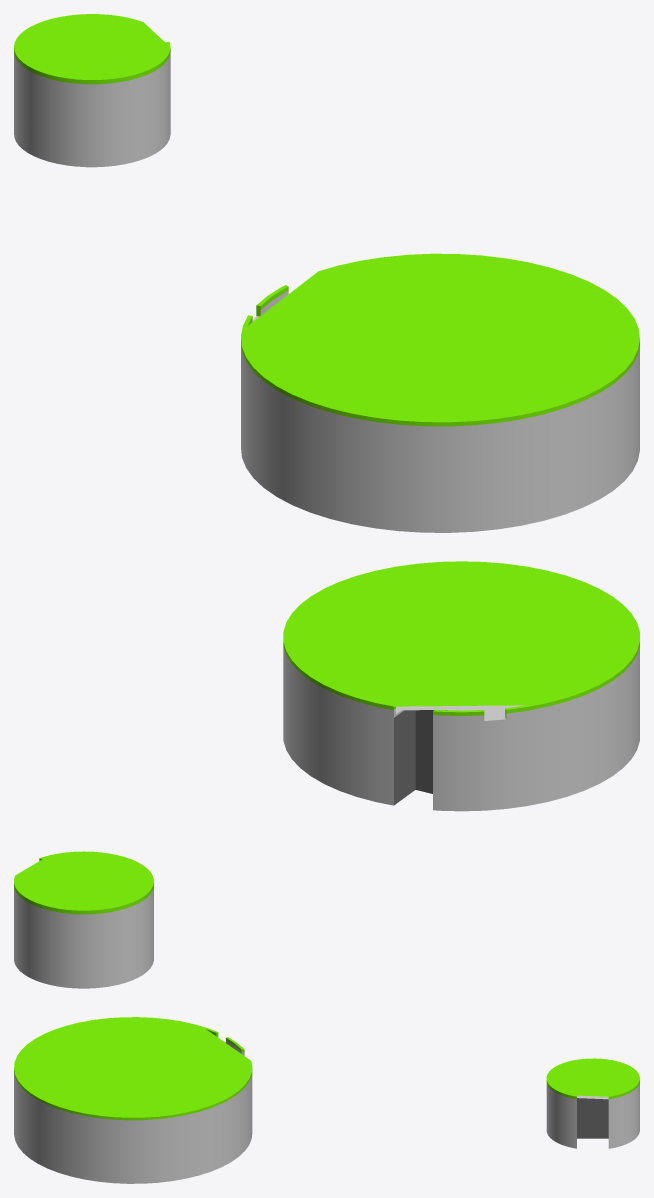
File: Buildings in Level 5.fbx
The picture shows the model from 3 angles, top to bottom: view 1: azimuth 30°, elevation 25°; view 2: azimuth 150°, elevation 25°; view 3: azimuth 270°, elevation 25°; orthographic projection. The views are drawn at different scales.
Visible parts, largest first — view 1: Group4, Group2, Group1, Group3; view 2: Group4, Group2, Group1, Group3; view 3: Group4, Group2, Group1, Group3.
Boxes of the visible parts, x1,y1,x2,y2 form: Group4: (241, 253, 639, 434); Group2: (241, 352, 639, 532); Group1: (14, 61, 170, 167); Group3: (14, 14, 170, 92); Group4: (283, 561, 639, 723); Group2: (283, 653, 639, 811); Group1: (14, 894, 153, 988); Group3: (14, 851, 153, 921); Group4: (14, 1017, 252, 1125); Group2: (14, 1076, 252, 1183); Group1: (546, 1087, 639, 1148); Group3: (546, 1058, 639, 1104).
Size of the model in its own units: 1715 by 525 by 4506.
